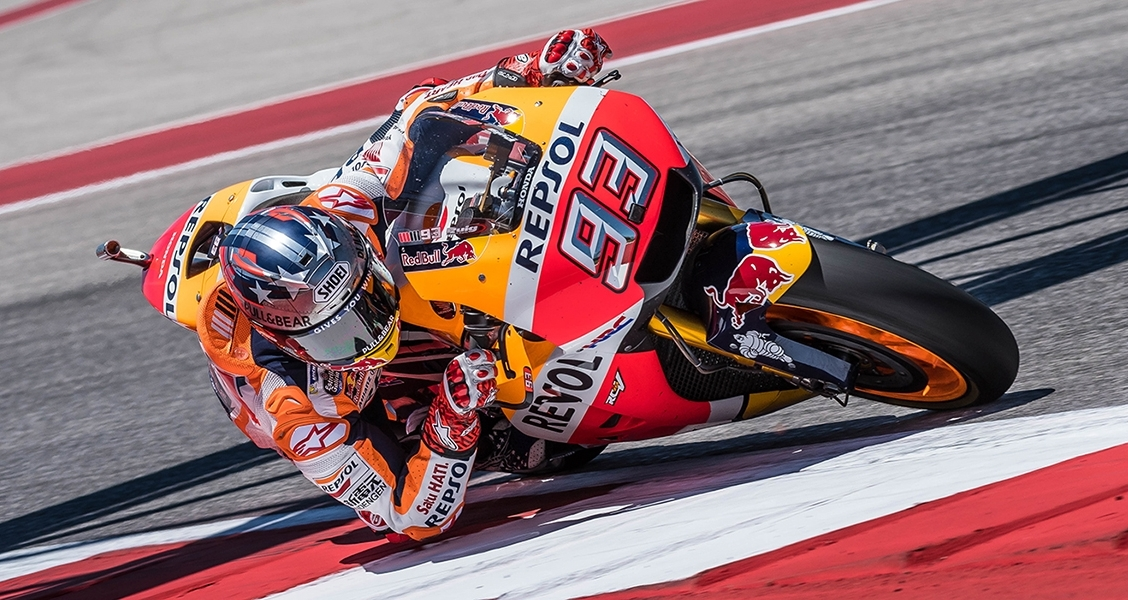helmet: (220, 213, 402, 365)
